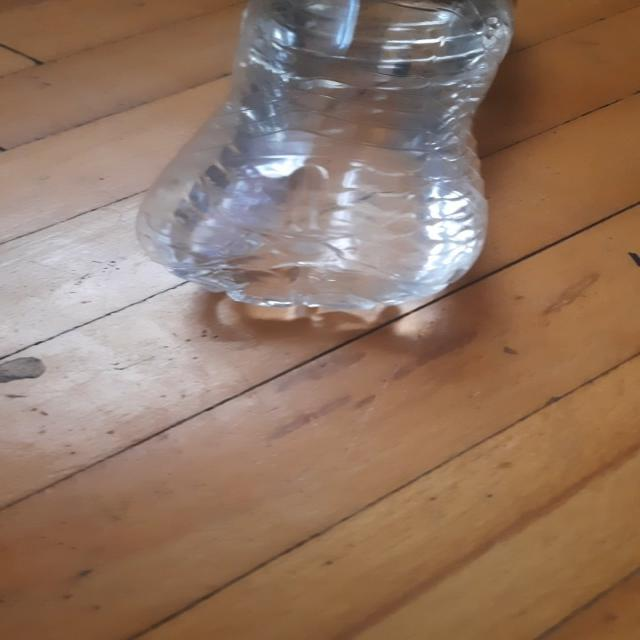Plastic: (135, 0, 519, 324)
